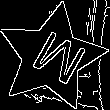M_SW: (19, 24, 84, 91)
